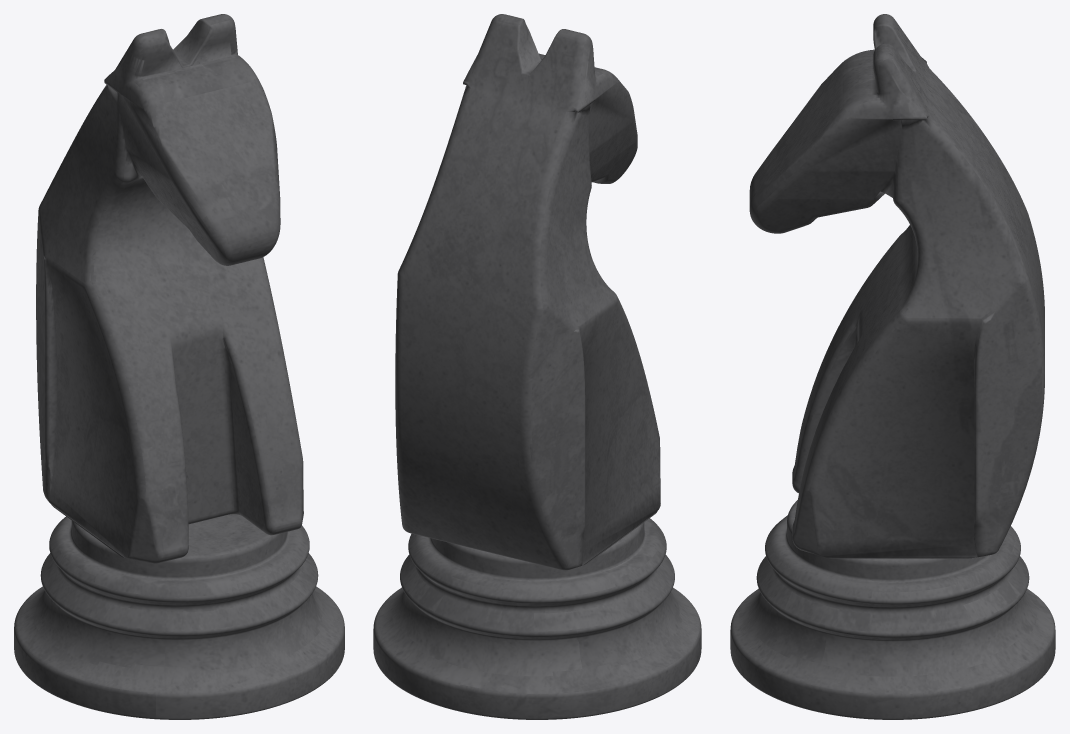
File: bknight.glb
3 renders of one model, left to right at view 1: azimuth 30°, elevation 25°; view 2: azimuth 150°, elevation 25°; view 3: azimuth 270°, elevation 25°, orthographic.
Parts seen in each view (by area): view 1: knight; view 2: knight; view 3: knight.
Boxes of the visible parts, left/top/right/bottom form: knight: left=14, top=14, right=344, bottom=719; knight: left=373, top=14, right=701, bottom=719; knight: left=730, top=14, right=1055, bottom=719.
Size of the model in its own units: 0.028 by 0.0588 by 0.028.
Materials: 1 (1 with a texture image).
